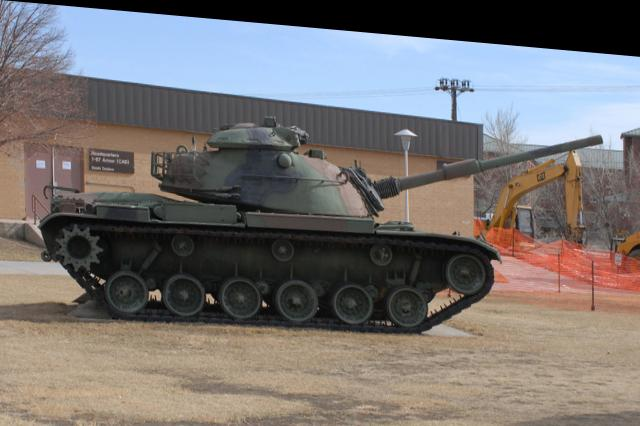tank: (46, 135, 488, 327)
